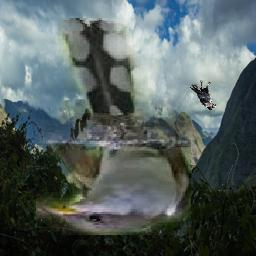Crow: (190, 80, 217, 111)
Cuckoo: (37, 19, 192, 236)
